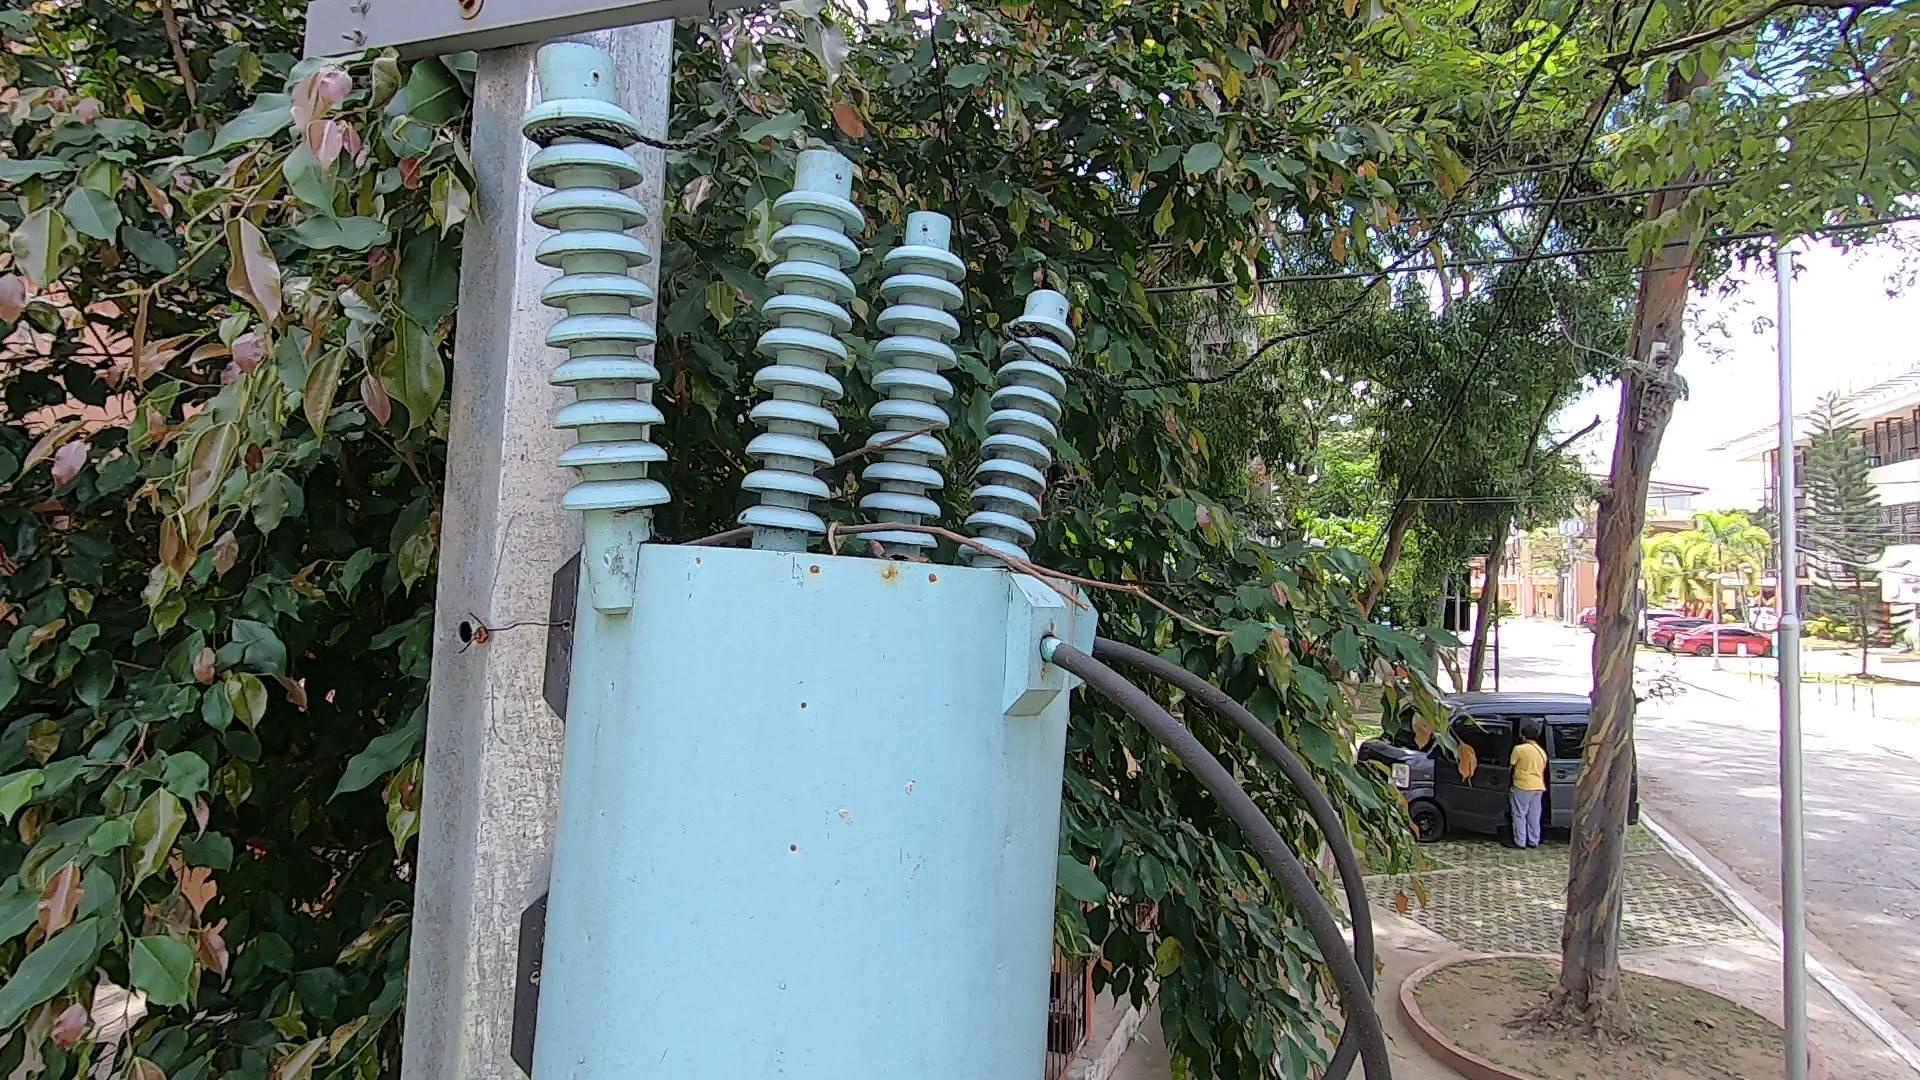leaf: (860, 530, 934, 568)
tree branch: (665, 434, 1254, 655)
